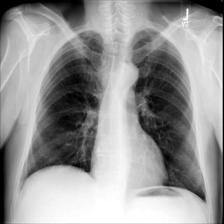normal: (18, 29, 208, 206)
